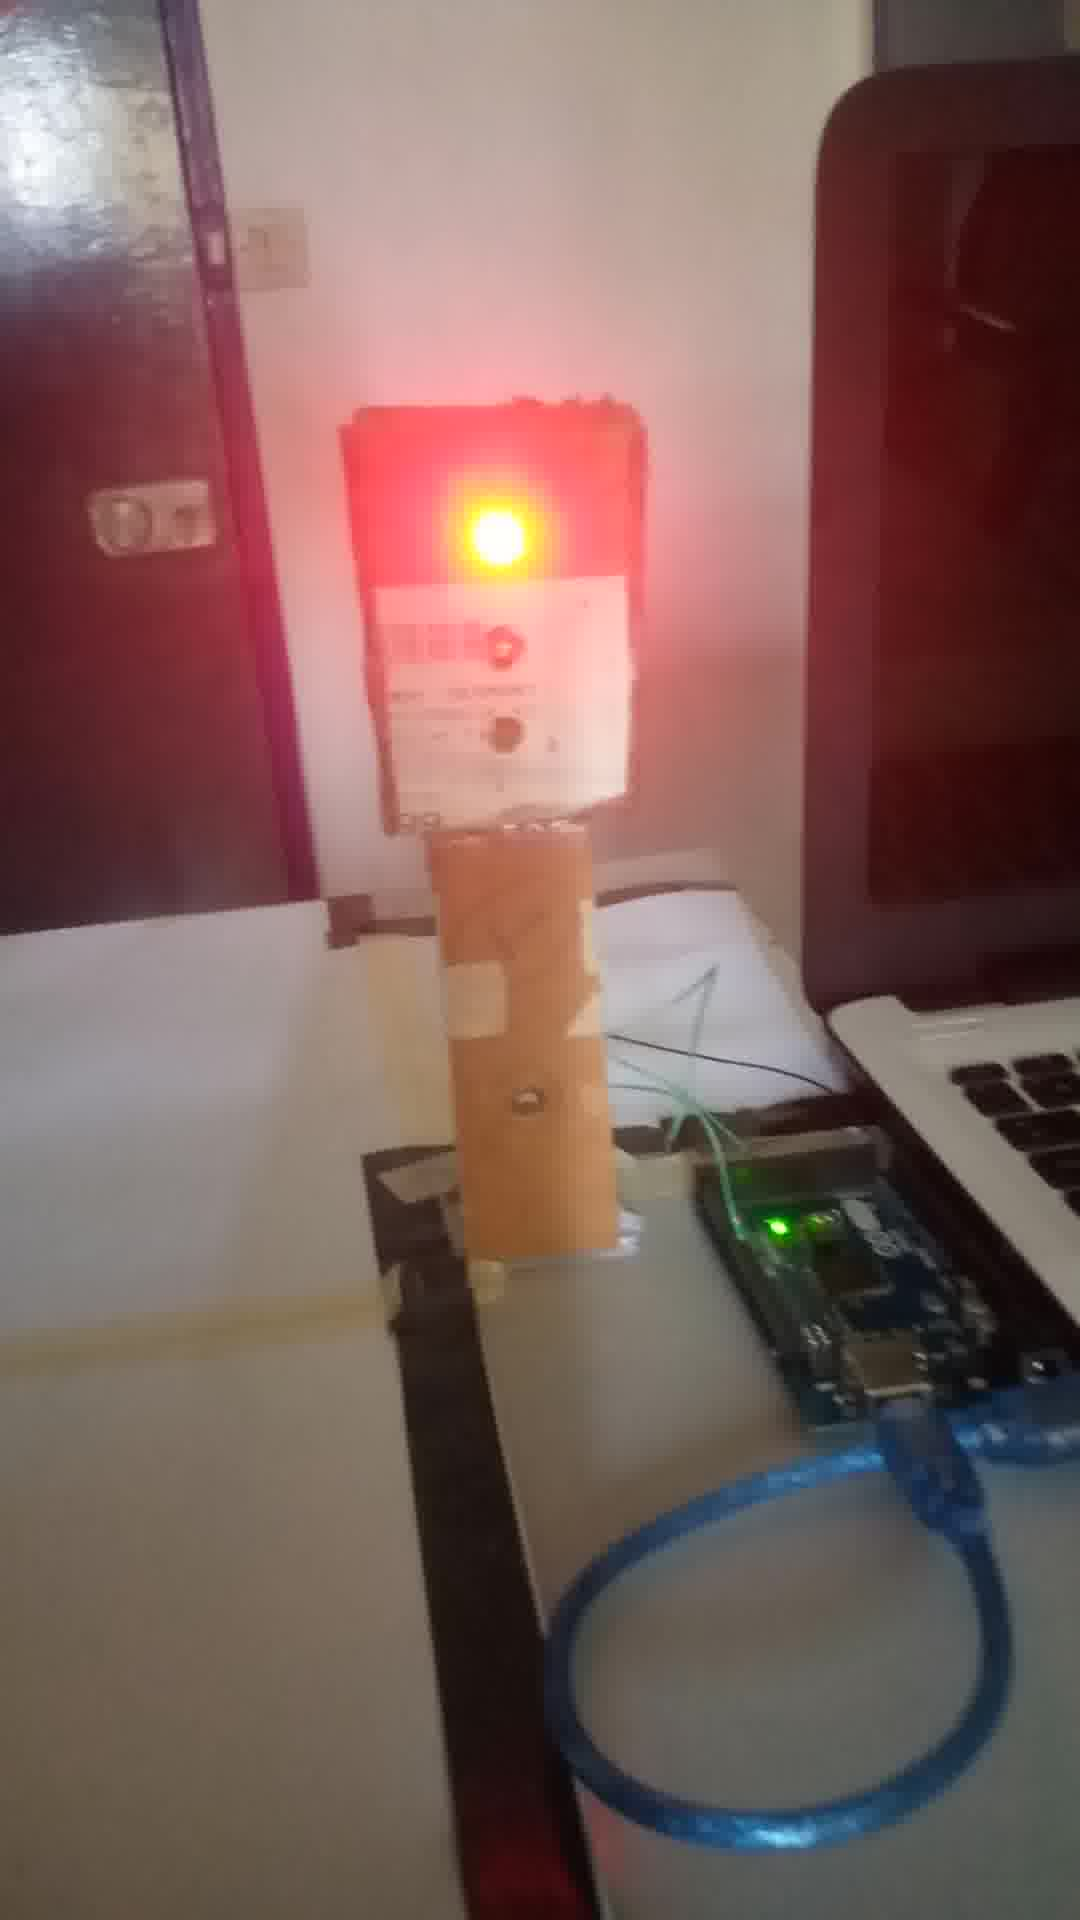red: (347, 423, 655, 808)
